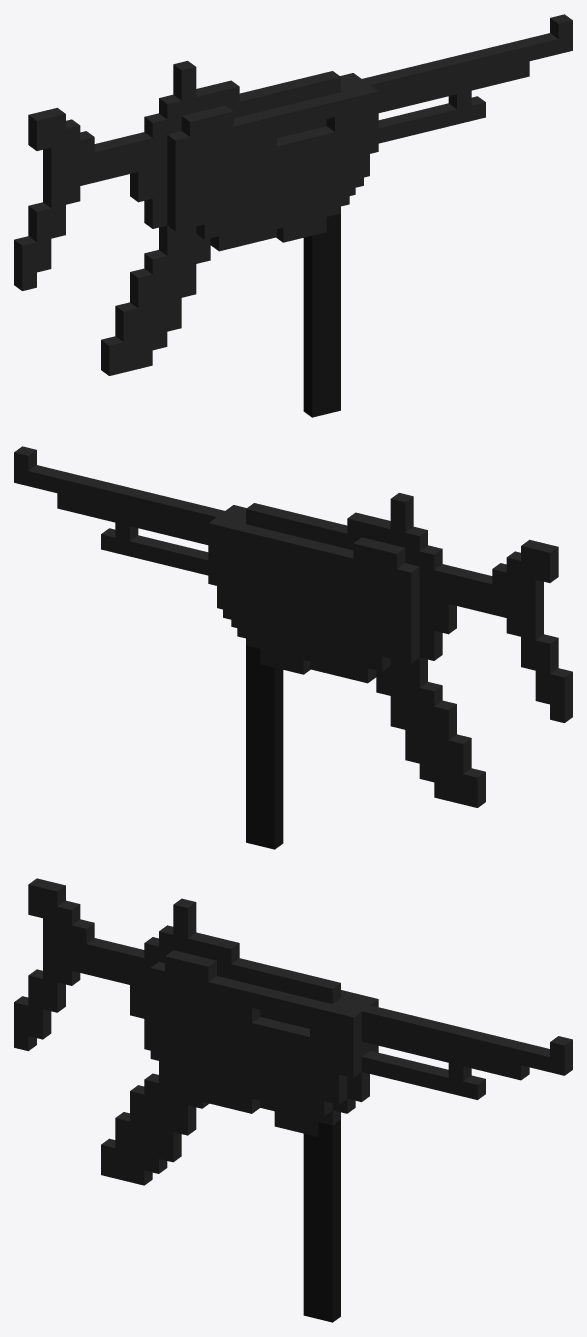
Rendered from mp-block.obj.
The picture shows the model from 3 angles, top to bottom: view 1: azimuth 30°, elevation 25°; view 2: azimuth 150°, elevation 25°; view 3: azimuth 330°, elevation 25°; orthographic projection.
Visible parts, largest first — view 1: mp-block; view 2: mp-block; view 3: mp-block.
Part boxes in pixels (x1,y1,x2,y2): mp-block: (14, 14, 572, 417); mp-block: (14, 446, 572, 849); mp-block: (14, 878, 572, 1322).
Bounding box in the file's own units: 38 × 25 × 3.
Materials: 1 (1 with a texture image).
